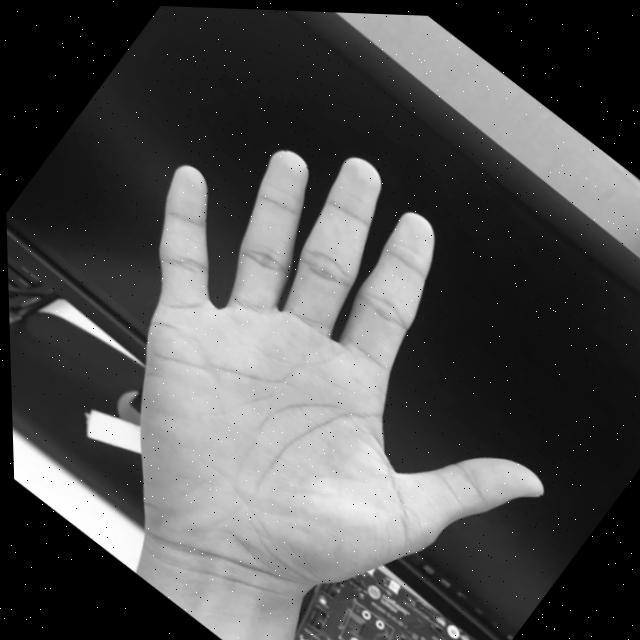no-gloves: (1, 59, 640, 640)
